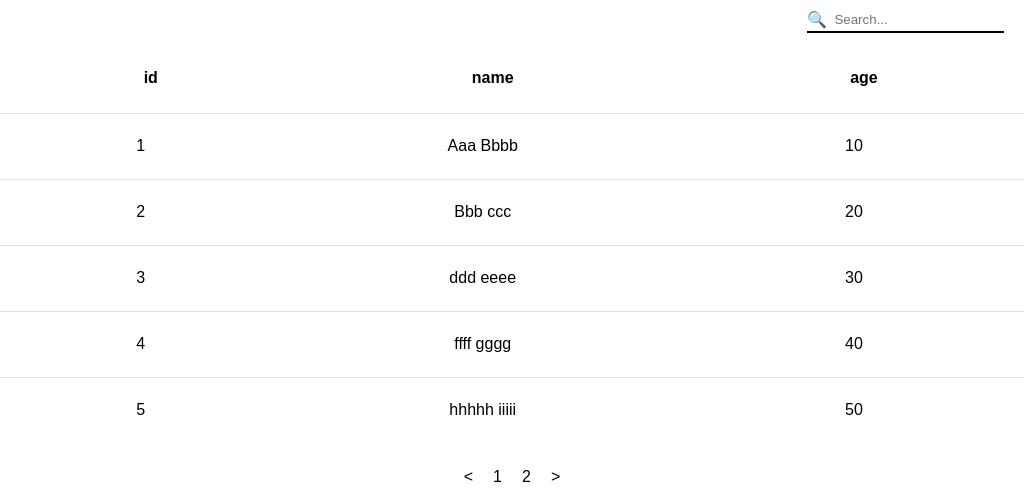
Test: CustomTable › select second page and search by input, should give input result
Click the text "2" at (526, 477), box [522,468,531,486]
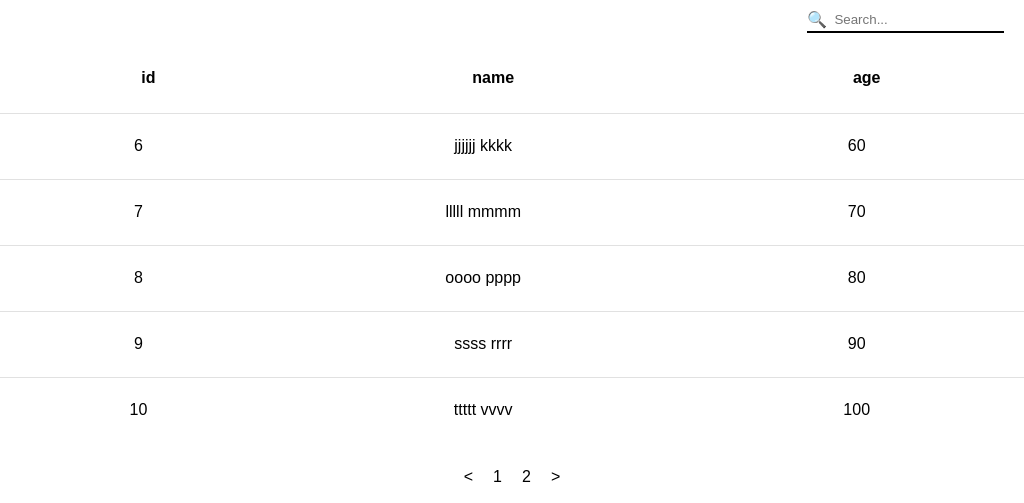
Expected: the text "oooo pppp" is shown, [277,245,690,311]
Type "aa" into the field at (916, 22), box [827,10,1004,33]
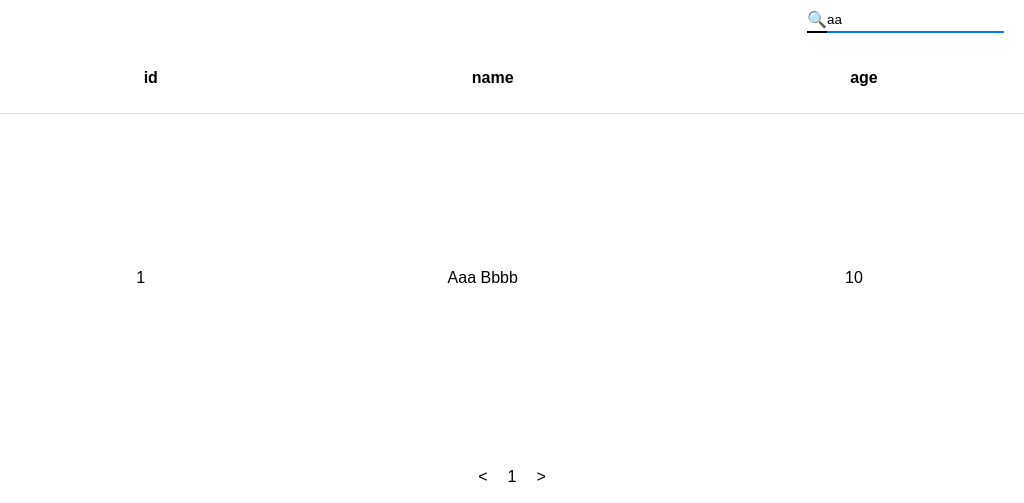
Expected: the text "Aaa Bbbb" is shown, [282,113,684,443]
